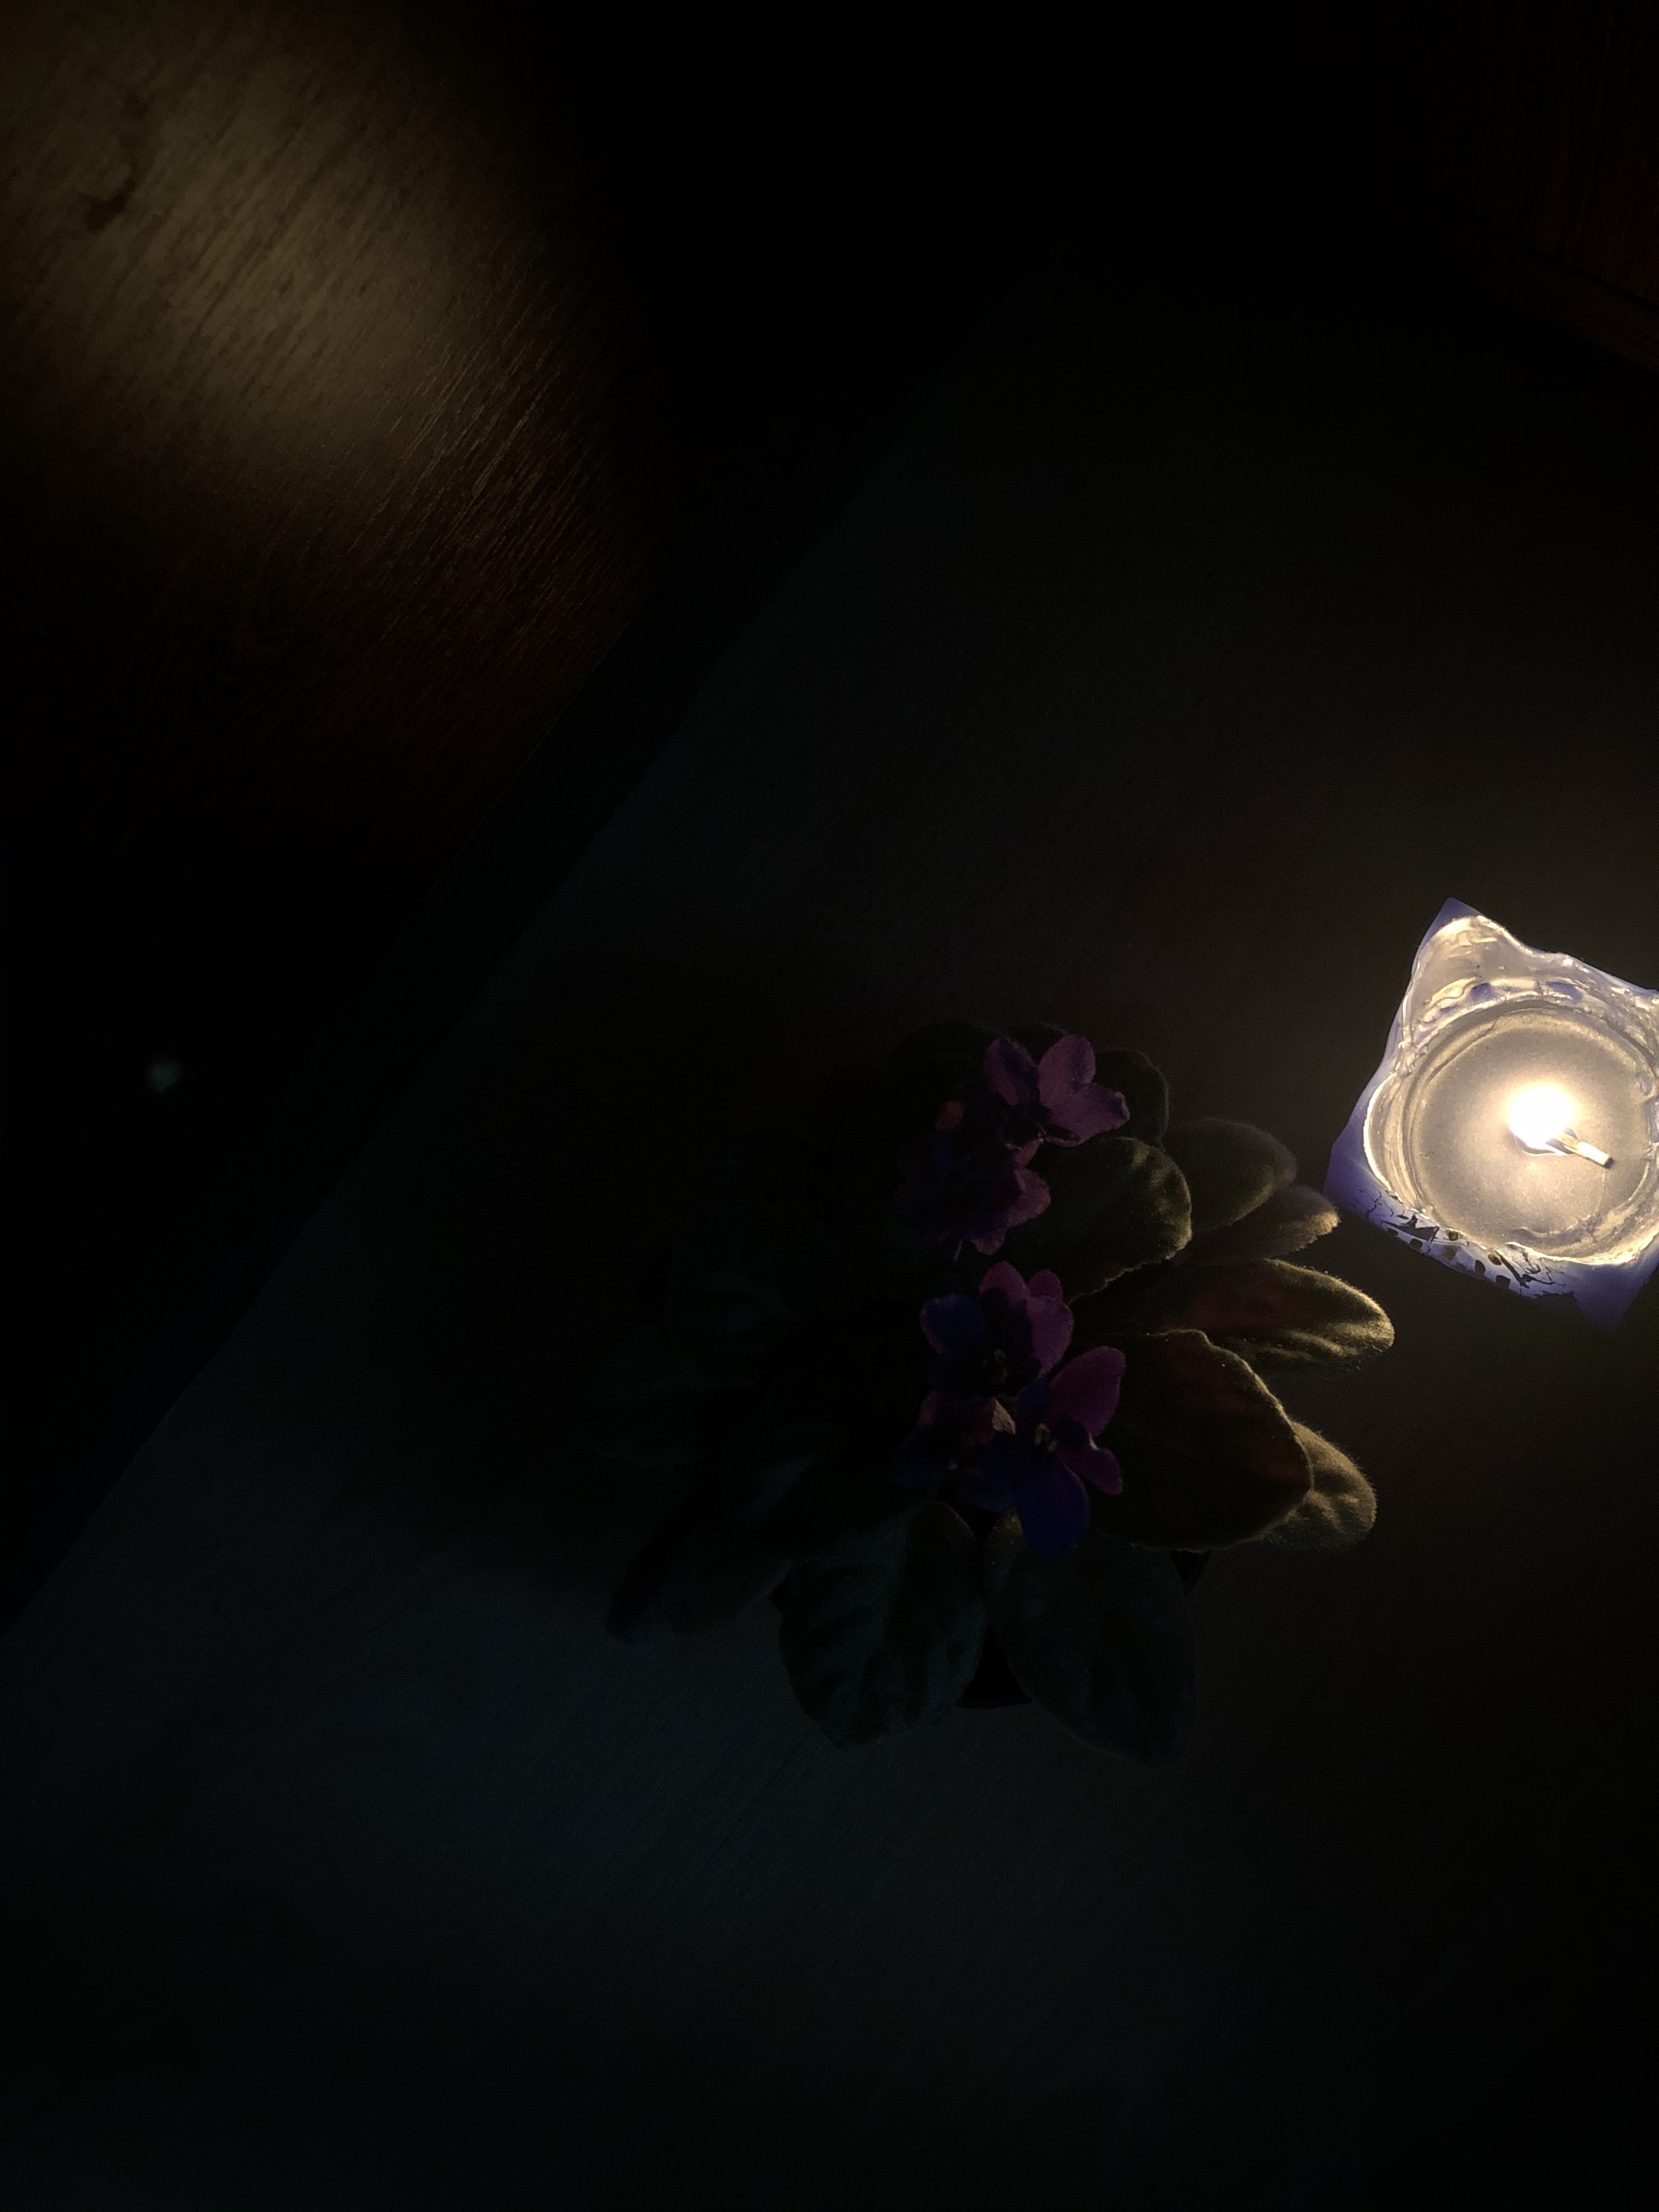ignore: (655, 1062, 1359, 1700)
